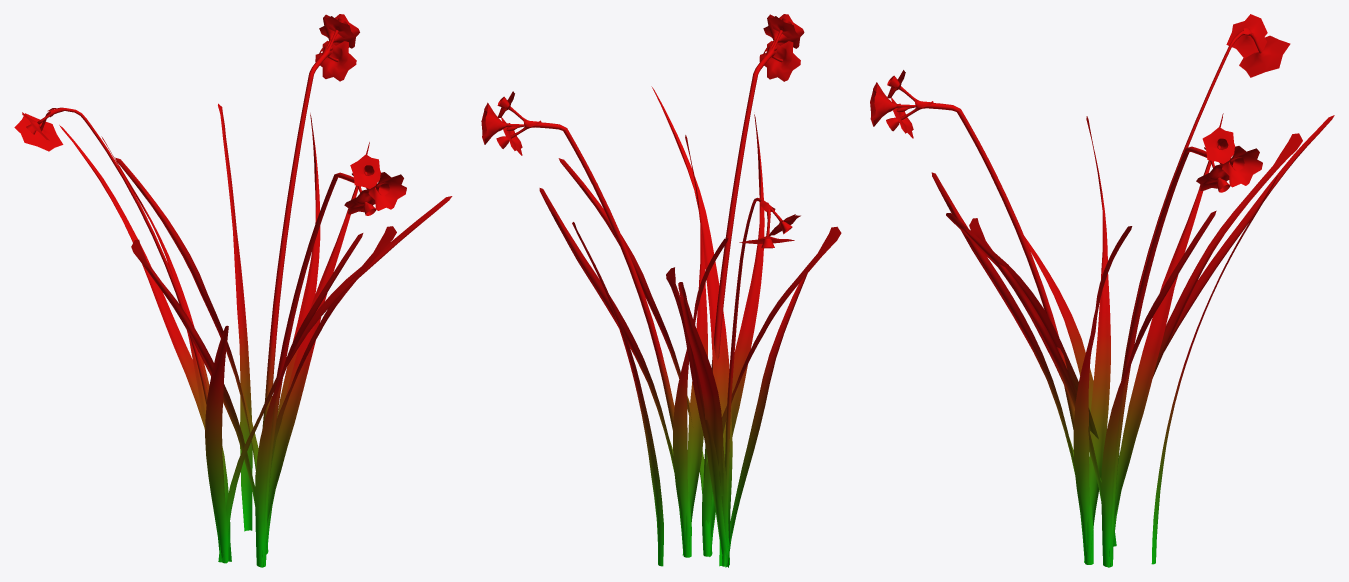
Rendered from Rush Daffodil_LOD0_Var4_wftgfjaia.fbx.
The picture shows the model from 3 angles, left to right: view 1: azimuth 30°, elevation 25°; view 2: azimuth 150°, elevation 25°; view 3: azimuth 270°, elevation 25°; orthographic projection. The views are drawn at different scales.
Parts seen in each view (by area): view 1: _pkme_var4_LOD0; view 2: _pkme_var4_LOD0; view 3: _pkme_var4_LOD0.
Part boxes in pixels (x1,y1,x2,y2): _pkme_var4_LOD0: (14,14,452,567); _pkme_var4_LOD0: (481,14,841,567); _pkme_var4_LOD0: (870,14,1334,567).
Size of the model in its own units: 24.24 by 33.79 by 28.23.
